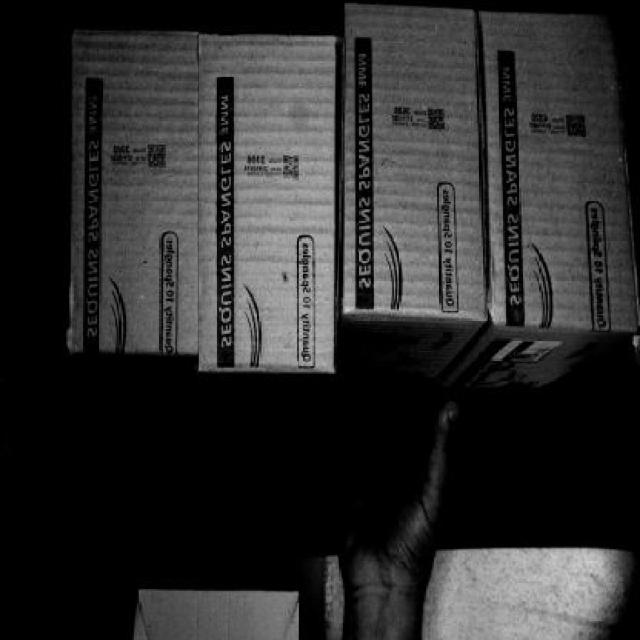cardboxes: (487, 0, 638, 328), (202, 32, 332, 380), (344, 5, 479, 317), (67, 37, 195, 351)
